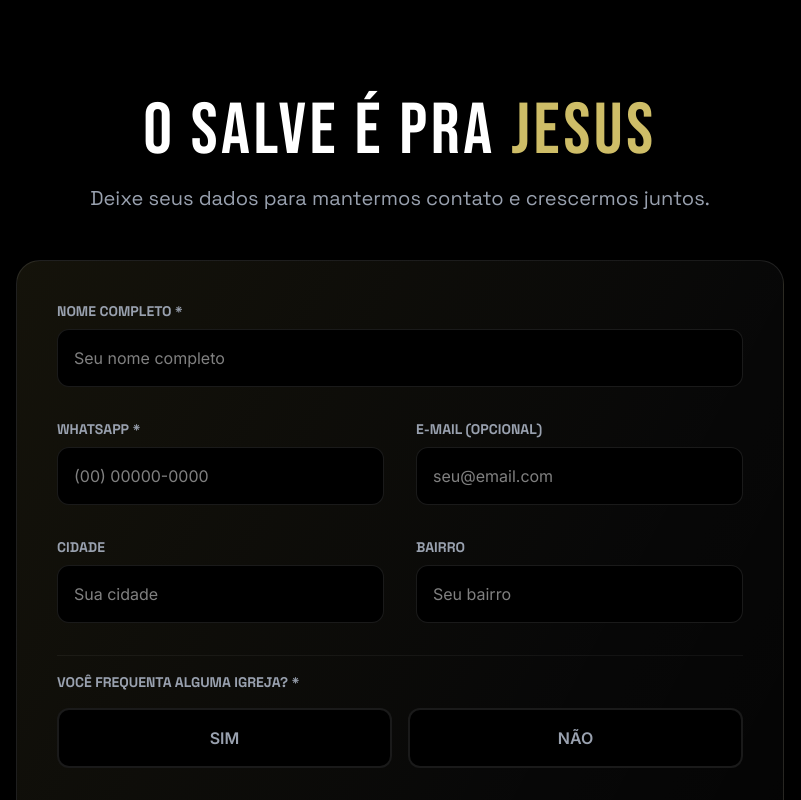
RegistrationForm › show validation error when decision with Jesus is not selected
Type "Maria Teste" into the field with placeholder "Seu nome completo" at [400, 358], box [57,329,743,387]
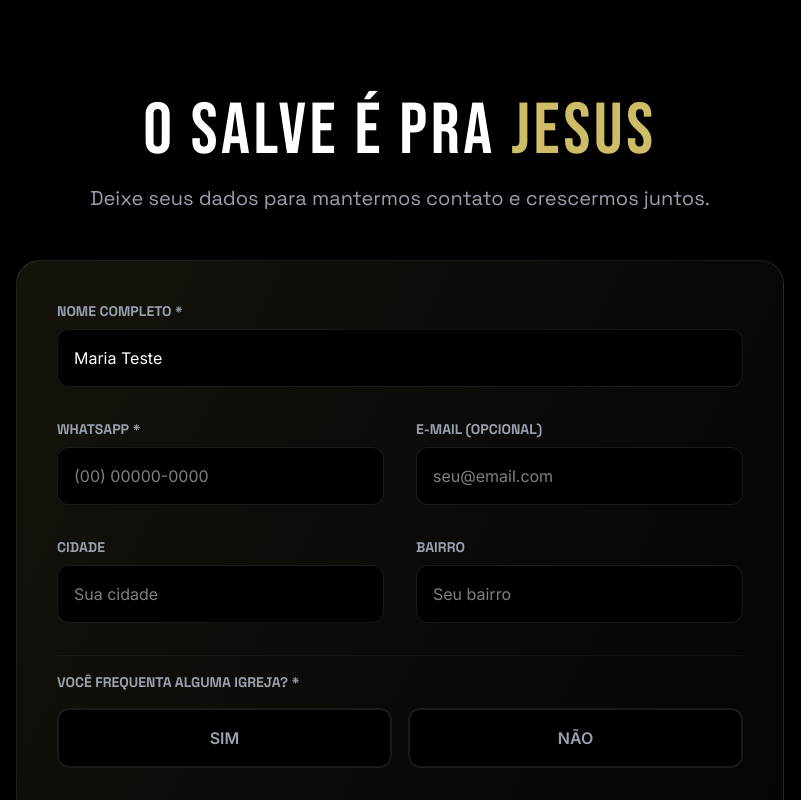
Type "11999999999" into the field with placeholder "(00) 00000-0000" at [220, 476], box [57,447,384,505]
(page scrolled)
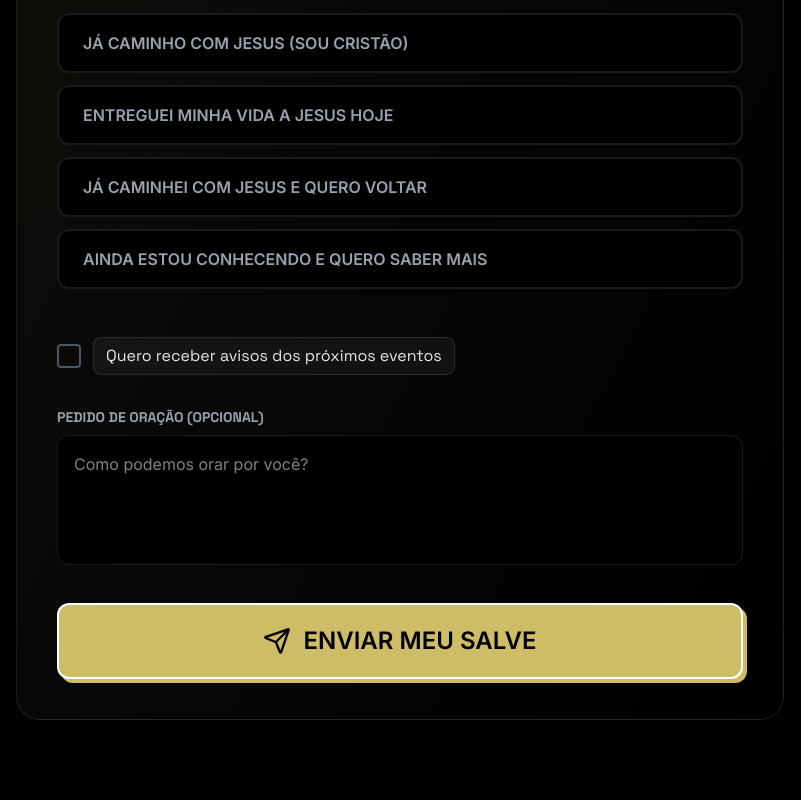
Click the button "ENVIAR MEU SALVE" at [400, 641], box [57,603,743,679]
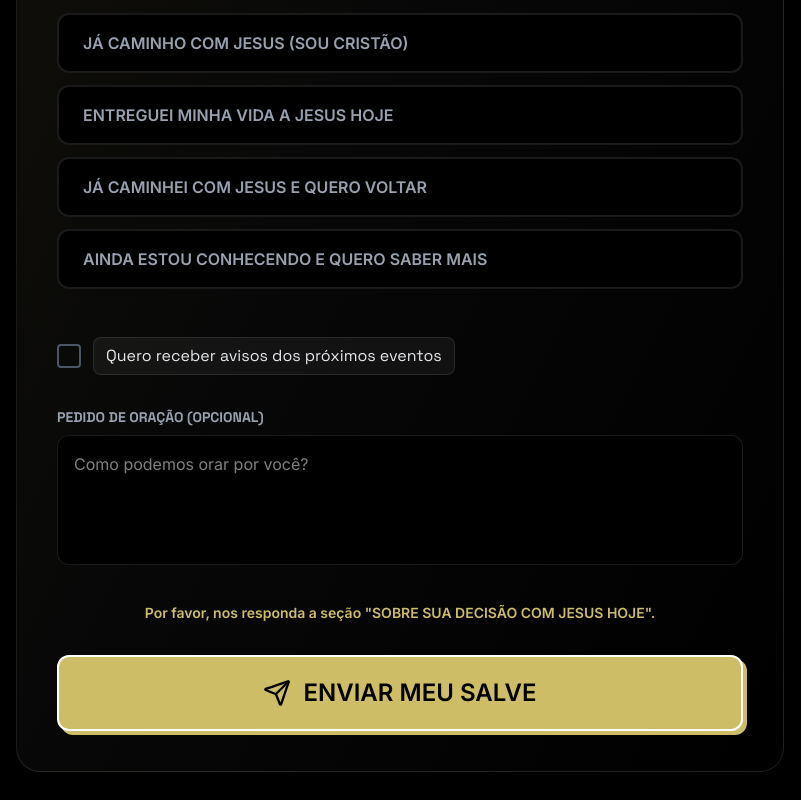
Now the text "Por favor, nos responda a seção" is shown, box [145,604,655,621]
